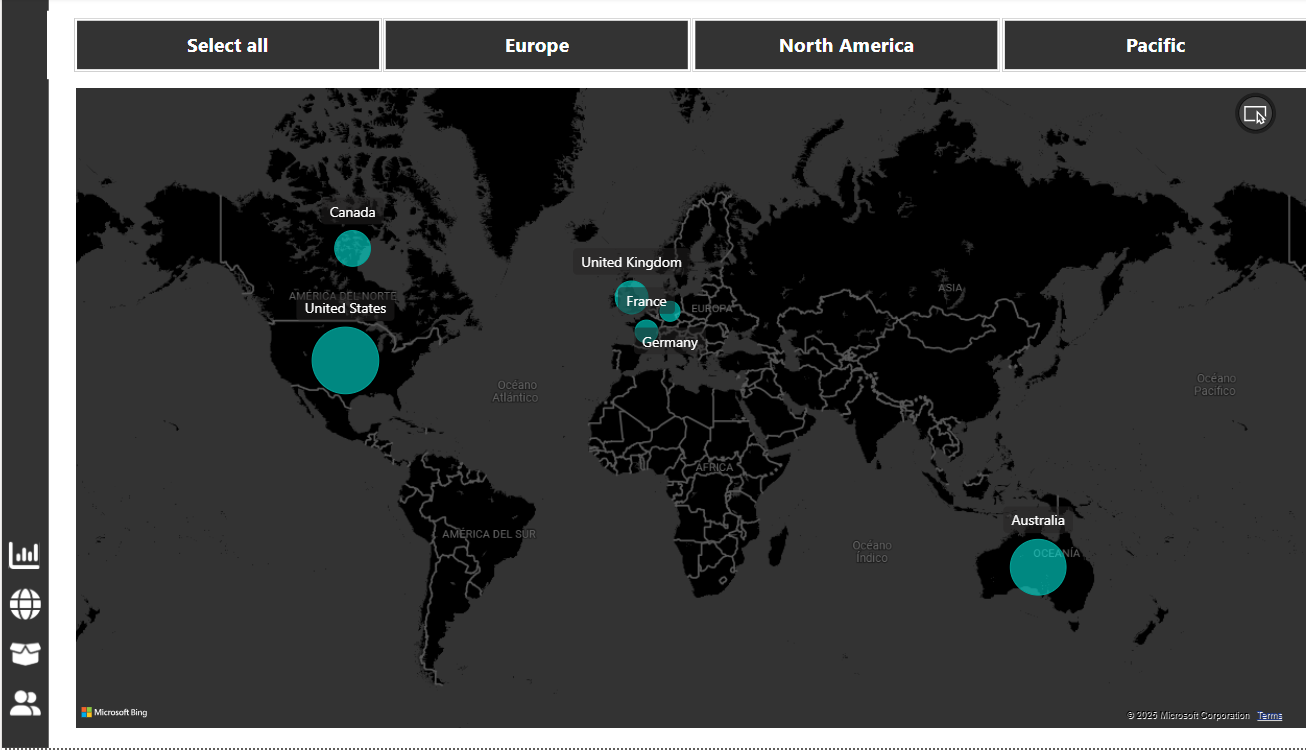

What the dashboard file says about the page in this screenshot:
{"tool":"powerbi","page":{"name":"Map","canvas":[1280,720],"ordinal":1},"visuals":[{"type":"shape","box":[0,0,45,720],"z":0},{"type":"actionButton","box":[2.5,516.7,45.6,37.8],"z":0,"group":"g1"},{"type":"actionButton","box":[3.3,563.4,45.6,37.8],"z":1000,"group":"g1"},{"type":"map","fields":{"Category":["Territory Lookup.Country"],"Size":["Measure Table.Total Orders"]},"box":[65.6,82.5,1191.3,622.8],"z":1000},{"type":"slicer","fields":{"Values":["Territory Lookup.Continent"]},"box":[43,13.6,1234.3,65.6],"z":2000},{"type":"actionButton","box":[3.3,611.1,45.6,37.8],"z":2000,"group":"g1"},{"type":"actionButton","box":[3.3,657.8,45.6,37.8],"z":3000,"group":"g1"},{"type":"group","id":"g1","title":"Navigation Buttons","box":[2.5,516.7,46.4,178.9],"z":3000}]}

Visuals, with their boxes on the page's 1280x720 design canvas (x1, y1, x2, y2). These are canvas units, not pixel positions in the 1306x750 screenshot, which may show the page scaled, cropped or inside an application window:
shape: <region>0, 0, 45, 720</region>
actionButton: <region>2, 517, 48, 554</region>
actionButton: <region>3, 563, 49, 601</region>
map - Territory Lookup.Country x Measure Table.Total Orders: <region>66, 82, 1257, 705</region>
slicer - Territory Lookup.Continent: <region>43, 14, 1277, 79</region>
actionButton: <region>3, 611, 49, 649</region>
actionButton: <region>3, 658, 49, 696</region>
"Navigation Buttons" group: <region>2, 517, 49, 696</region>
